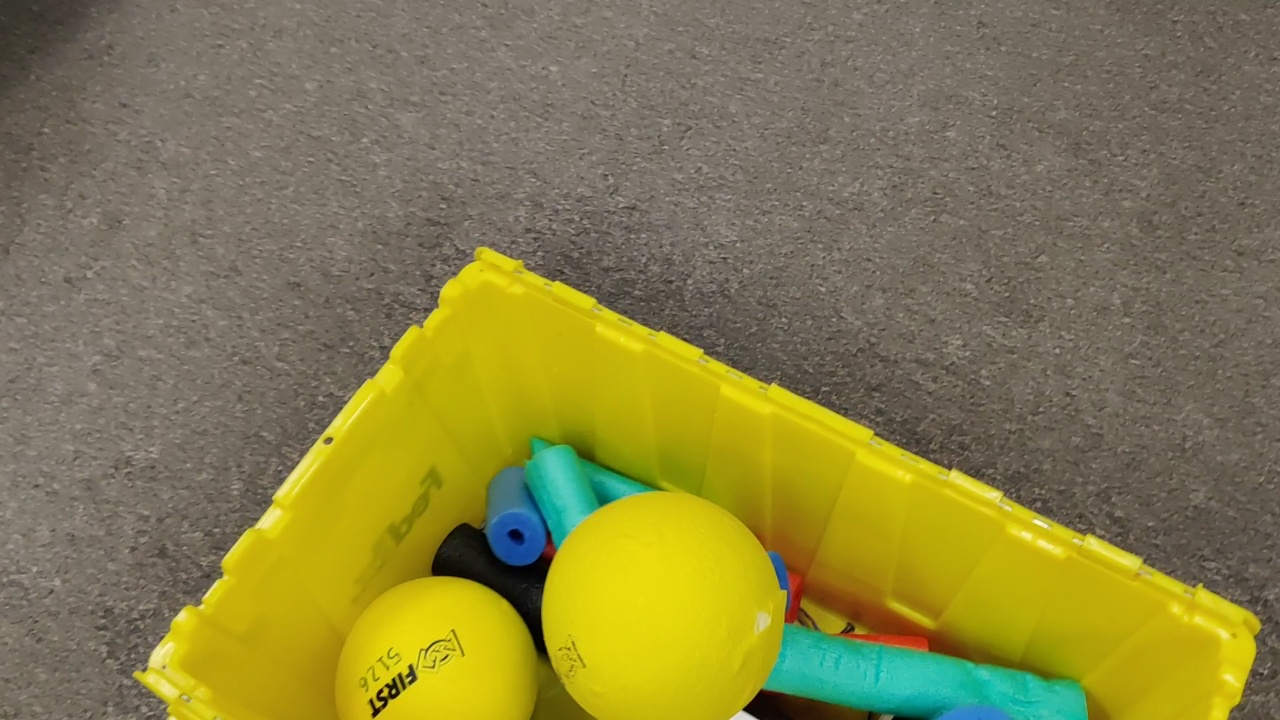Ball: (543, 489, 782, 720), (336, 577, 536, 720)
